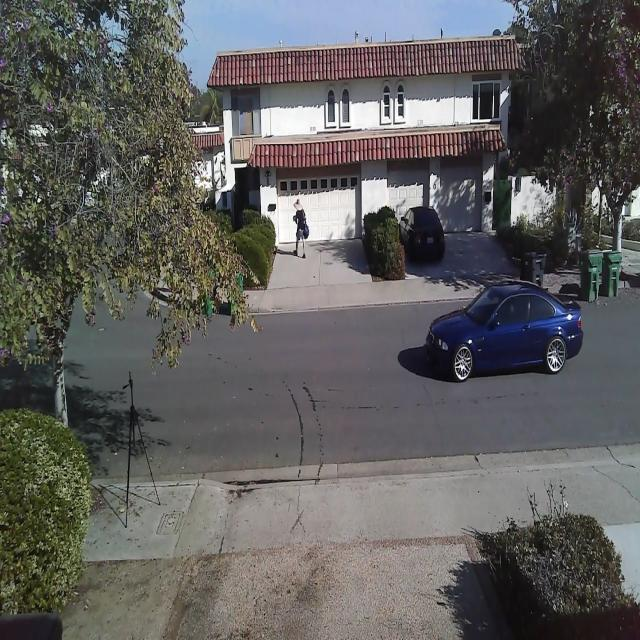Carbeetle: (420, 274, 587, 388)
Civilian: (399, 205, 445, 263)
